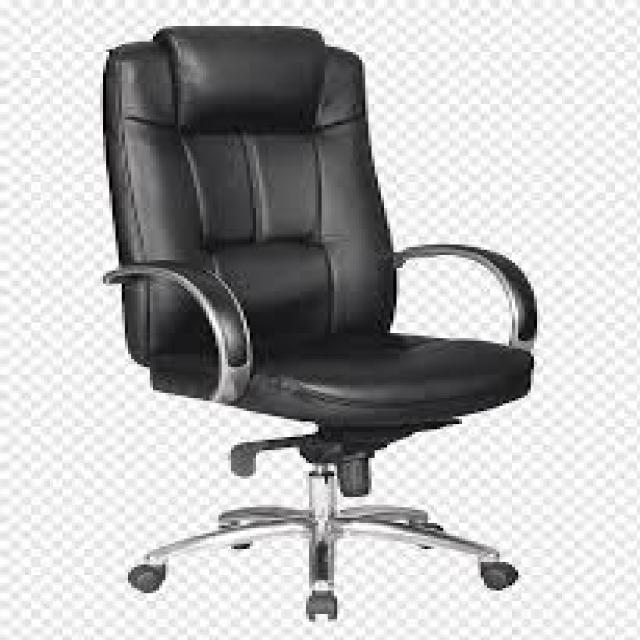chair: (48, 8, 560, 640)
